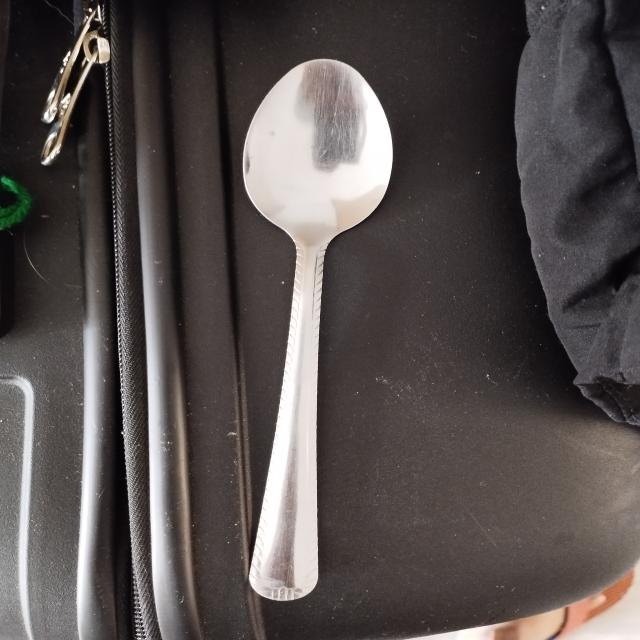Spoon: (198, 32, 394, 620)
